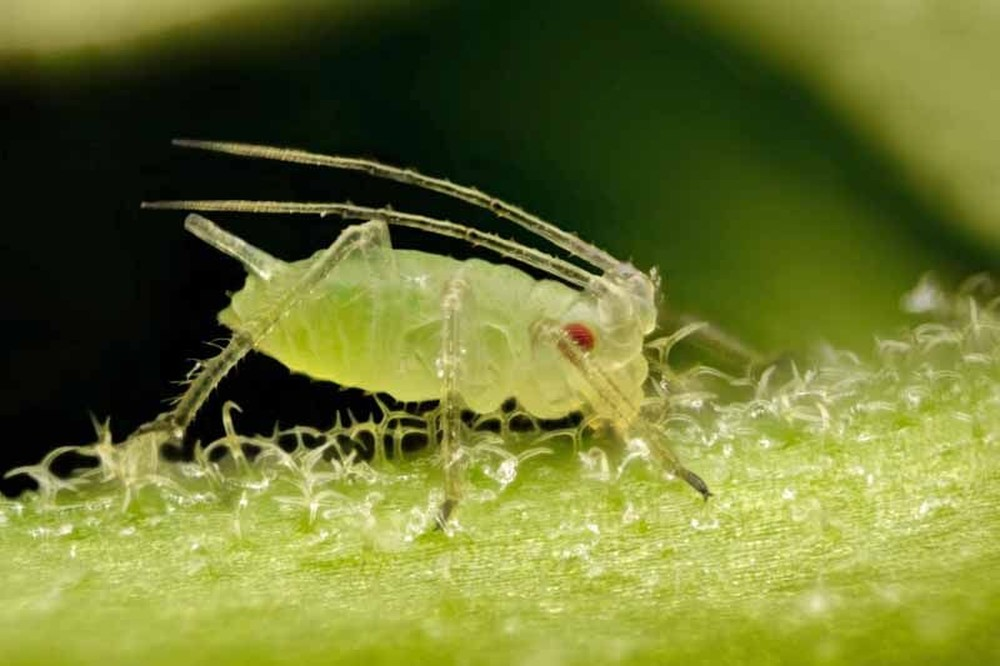Pulgon: (131, 135, 746, 524)
